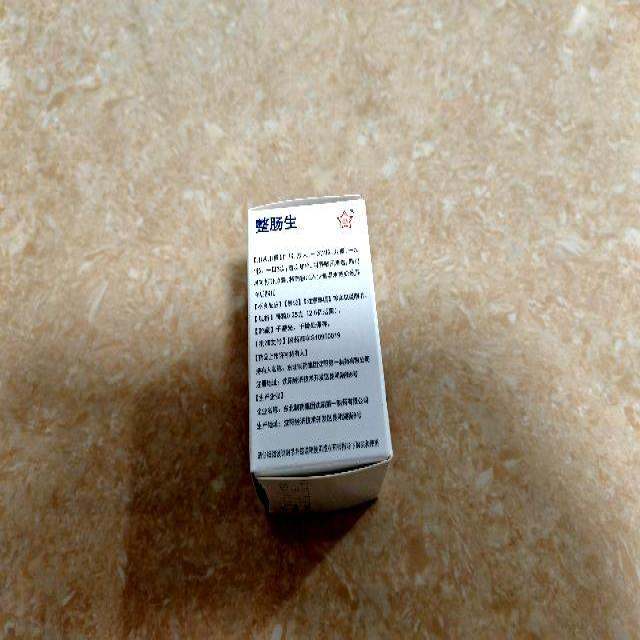box: (246, 195, 392, 518)
